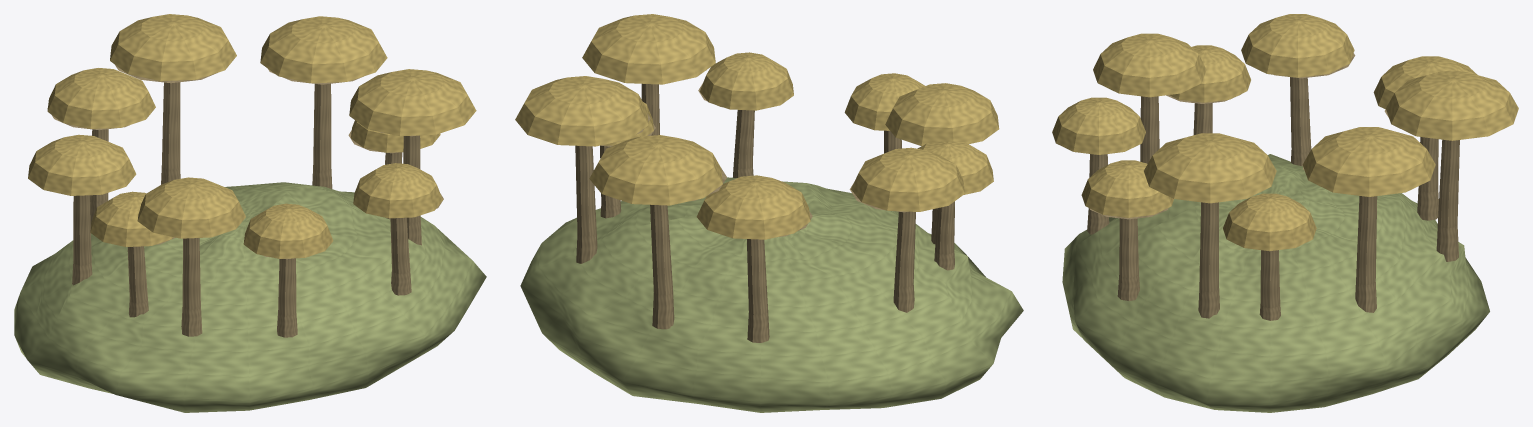
File: mushroom_ring_on_hummock_swamp_and_mangrove_22666.glb
The picture shows the model from 3 angles, left to right: view 1: azimuth 30°, elevation 25°; view 2: azimuth 150°, elevation 25°; view 3: azimuth 270°, elevation 25°; orthographic projection. The views are drawn at different scales.
Visible parts, largest first — view 1: mushroom-ring; view 2: mushroom-ring; view 3: mushroom-ring.
Part boxes in pixels (x1,y1,x2,y2): mushroom-ring: [14, 14, 486, 412]; mushroom-ring: [515, 14, 1023, 412]; mushroom-ring: [1052, 14, 1518, 412].
Size of the model in its own units: 1.3 by 0.6792 by 1.18.
3 materials, 3 textured.
